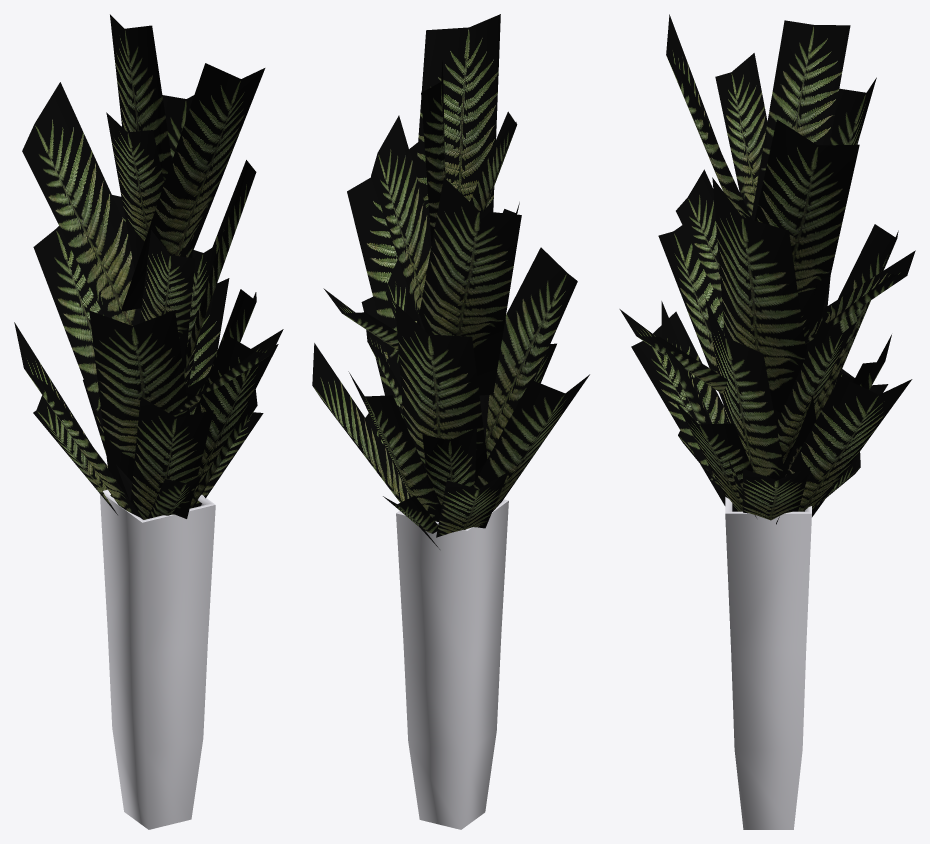
The model's file is p6_karma_pot_tall_fern_lod2.glb.
The picture shows the model from 3 angles, left to right: view 1: azimuth 30°, elevation 25°; view 2: azimuth 150°, elevation 25°; view 3: azimuth 270°, elevation 25°; orthographic projection. The views are drawn at different scales.
Parts seen in each view (by area): view 1: surf0, surf1; view 2: surf0, surf1; view 3: surf0, surf1.
Boxes of the visible parts, x1,y1,x2,y2 form: surf0: (14,14,283,519); surf1: (100,489,215,829); surf0: (312,14,589,549); surf1: (396,499,508,829); surf0: (619,14,915,524); surf1: (725,497,811,829).
Bounding box in the file's own units: 36.25 × 118 × 39.35.
